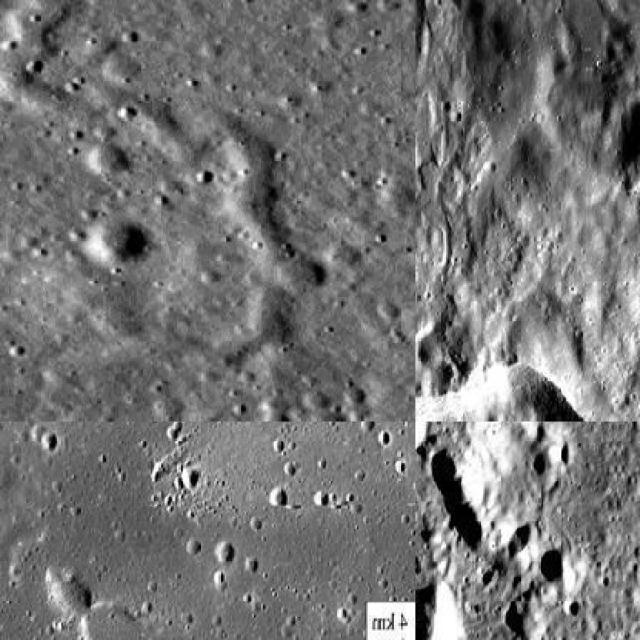rille: (0, 0, 326, 368), (436, 208, 464, 386)
